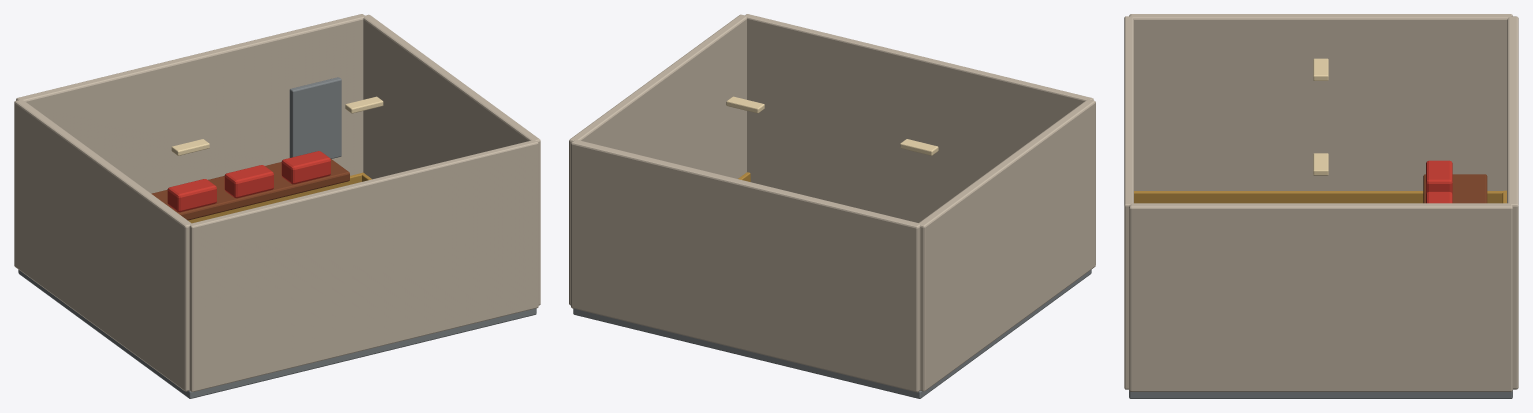
File: apartment_maintenance_a.glb
3 views of the same model, side by side, from view 1: azimuth 30°, elevation 25°; view 2: azimuth 150°, elevation 25°; view 3: azimuth 270°, elevation 25° (orthographic). The views are drawn at different scales.
Visible parts, largest first — view 1: CUTAWAY_FRONT, SET_Wall_Back, SET_Wall_Left, SET_Wall_Right, PROP_BreakerPanel, SET_Floor, PROP_Workbench, PROP_Toolbox_3, PROP_Toolbox_2, PROP_Toolbox_1, SET_Baseboard_Back; view 2: SET_Wall_Back, CUTAWAY_FRONT, SET_Wall_Left, SET_Wall_Right, SET_Floor; view 3: SET_Wall_Right, SET_Wall_Left, SET_Trim_Left, SET_Wall_Back, CUTAWAY_FRONT, SET_Floor, PROP_Workbench, PROP_Toolbox_0, SET_LightFixture_R, SET_LightFixture_L.
Part boxes in pixels (x1,y1,x2,y2): CUTAWAY_FRONT: [189, 140, 538, 392]; SET_Wall_Back: [16, 14, 364, 193]; SET_Wall_Left: [14, 100, 191, 391]; SET_Wall_Right: [363, 14, 540, 305]; PROP_BreakerPanel: [289, 77, 341, 158]; SET_Floor: [18, 269, 536, 398]; PROP_Workbench: [151, 158, 349, 220]; PROP_Toolbox_3: [281, 151, 330, 184]; PROP_Toolbox_2: [224, 165, 273, 198]; PROP_Toolbox_1: [167, 179, 216, 212]; SET_Baseboard_Back: [188, 172, 364, 223]; SET_Wall_Back: [571, 139, 920, 392]; CUTAWAY_FRONT: [745, 14, 1093, 222]; SET_Wall_Left: [919, 99, 1095, 391]; SET_Wall_Right: [569, 14, 746, 305]; SET_Floor: [573, 269, 1091, 398]; SET_Wall_Right: [1129, 203, 1512, 391]; SET_Wall_Left: [1129, 14, 1512, 190]; SET_Trim_Left: [1134, 191, 1506, 203]; SET_Wall_Back: [1507, 16, 1518, 389]; CUTAWAY_FRONT: [1124, 16, 1133, 389]; SET_Floor: [1129, 390, 1512, 398]; PROP_Workbench: [1423, 174, 1487, 203]; PROP_Toolbox_0: [1426, 160, 1452, 193]; SET_LightFixture_R: [1313, 153, 1328, 175]; SET_LightFixture_L: [1313, 58, 1328, 80].
Size of what is drawn, in the model's own units: 7.18 by 3.36 by 6.17.
